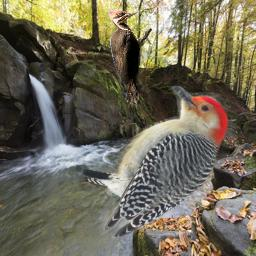Woodpecker: (76, 86, 229, 238), (108, 10, 152, 108)
